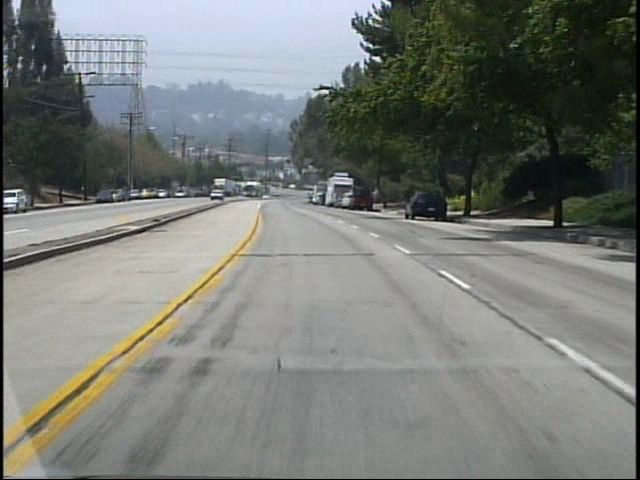person: (370, 183, 382, 209)
